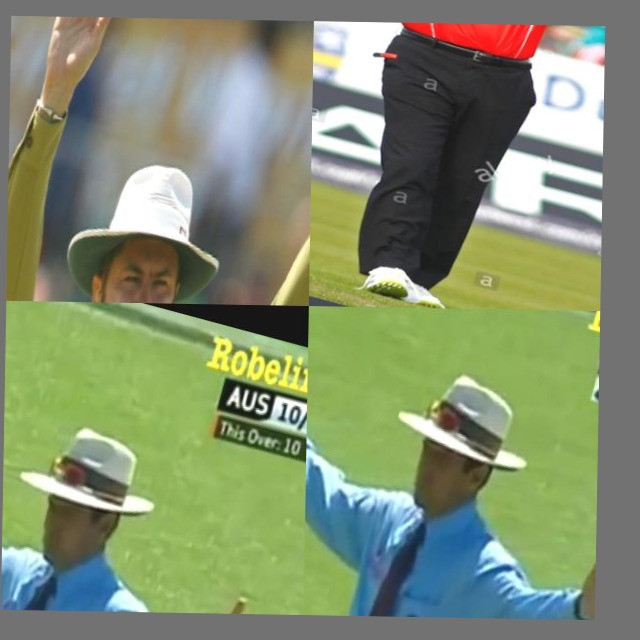Six: (6, 16, 314, 306), (309, 21, 605, 311)
Wide: (303, 306, 600, 620), (1, 358, 302, 615)
